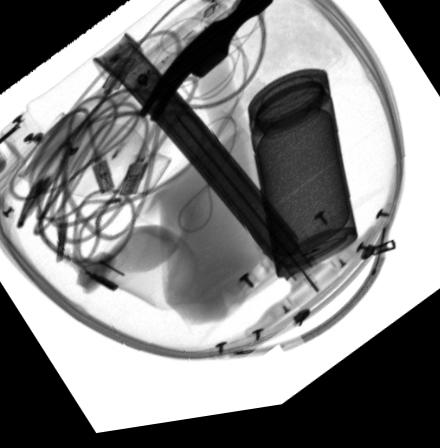Hammer: (135, 0, 280, 304)
